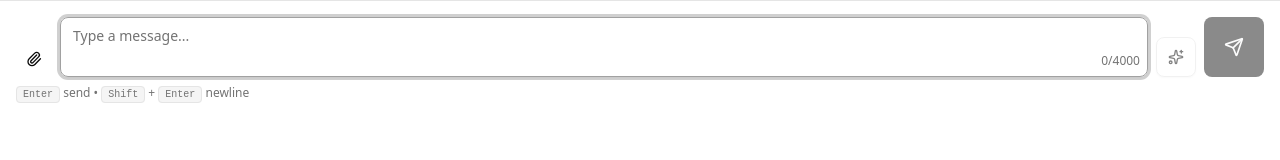
Test: ChatInput › updates textarea with optimized text
The image size is (1280, 160).
In the text box: {"x": 604, "y": 47} [60,17,1148,77], type "Original text"
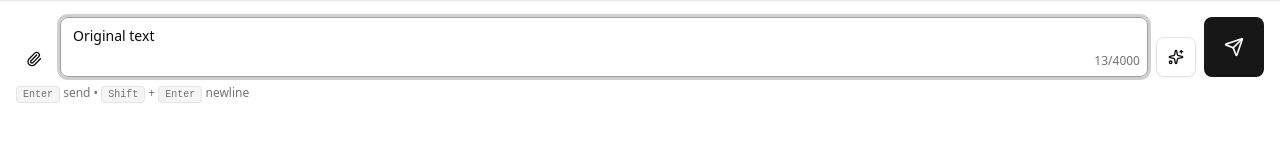
Click the button named "Optimize prompt": {"x": 1176, "y": 57} [1156,37,1196,77]
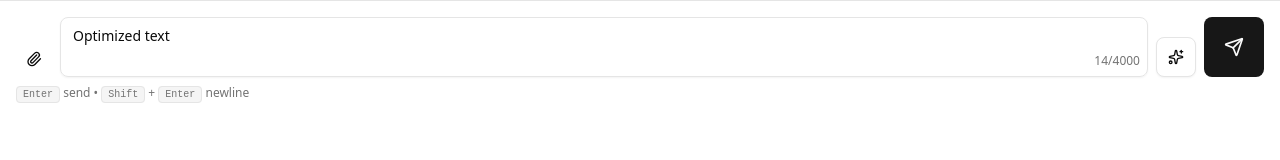
Now the text box holds "Optimized text", box [60,17,1148,77]
